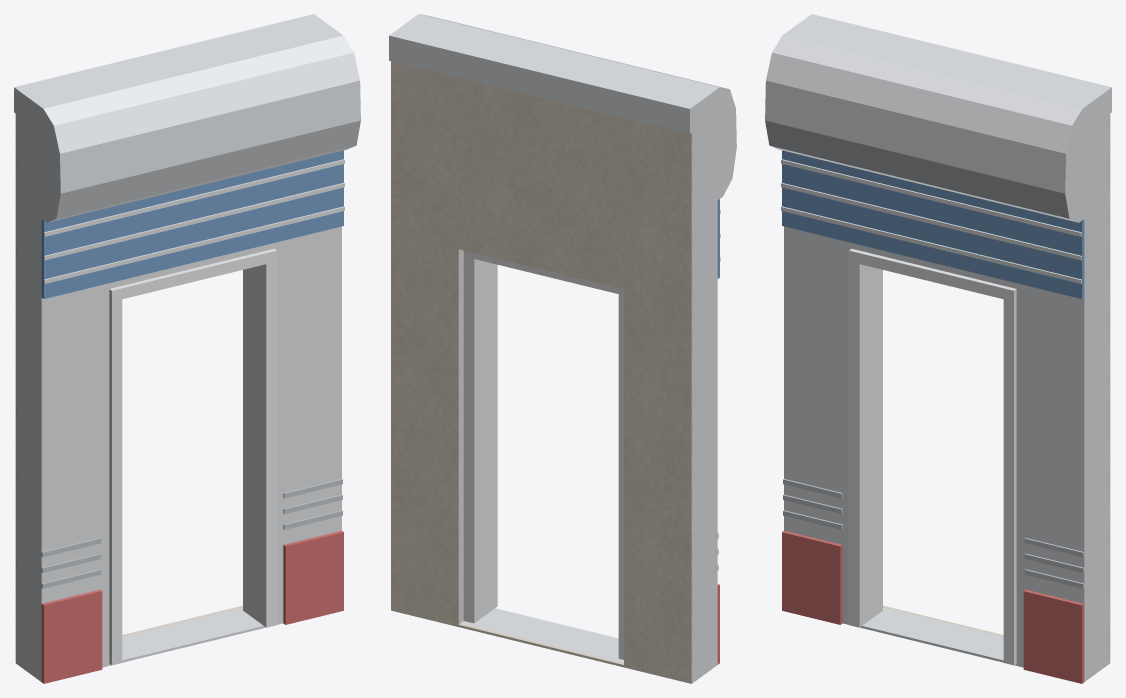
File: wall_diner_door.glb
3 views of the same model, side by side, from view 1: azimuth 30°, elevation 25°; view 2: azimuth 150°, elevation 25°; view 3: azimuth 330°, elevation 25° (orthographic).
Parts seen in each view (by area): view 1: wall_diner_door_steel, wall_diner_door_frame, wall_diner_door_enamel, wall_diner_door_enamel_red, wall_diner_door_steel_dark, wall_diner_door_plaster; view 2: wall_diner_door_plaster, wall_diner_door_steel, wall_diner_door_frame; view 3: wall_diner_door_steel, wall_diner_door_frame, wall_diner_door_enamel, wall_diner_door_enamel_red, wall_diner_door_steel_dark, wall_diner_door_plaster.
Part boxes in pixels (left/top/right/bottom): wall_diner_door_steel: left=14, top=14, right=360, bottom=681; wall_diner_door_frame: left=109, top=248, right=276, bottom=665; wall_diner_door_enamel: left=41, top=150, right=343, bottom=298; wall_diner_door_enamel_red: left=41, top=530, right=343, bottom=683; wall_diner_door_steel_dark: left=41, top=479, right=342, bottom=588; wall_diner_door_plaster: left=15, top=114, right=242, bottom=663; wall_diner_door_plaster: left=391, top=61, right=693, bottom=683; wall_diner_door_steel: left=389, top=14, right=736, bottom=682; wall_diner_door_frame: left=463, top=250, right=623, bottom=659; wall_diner_door_steel: left=765, top=14, right=1111, bottom=681; wall_diner_door_frame: left=849, top=248, right=1016, bottom=665; wall_diner_door_enamel: left=782, top=150, right=1084, bottom=298; wall_diner_door_enamel_red: left=782, top=530, right=1084, bottom=683; wall_diner_door_steel_dark: left=783, top=479, right=1084, bottom=588; wall_diner_door_plaster: left=883, top=114, right=1110, bottom=663.
Bounding box in the file's own units: 2 × 3.66 × 0.54.
Materials: 6 (1 with a texture image).
